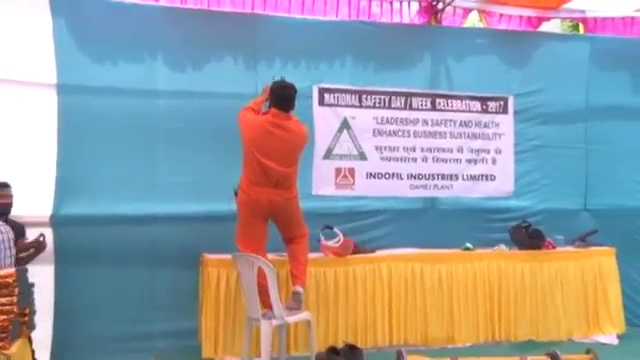helmet_off: (266, 80, 298, 113), (1, 181, 13, 218)
person: (232, 79, 311, 308), (1, 179, 46, 266)
